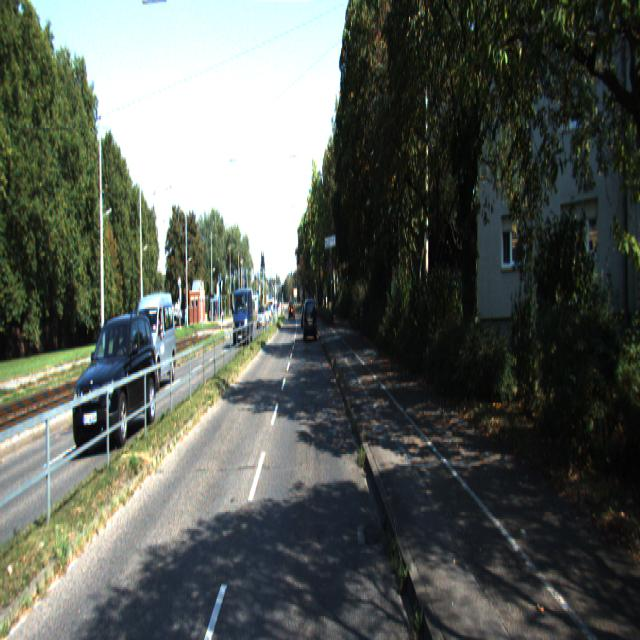Car: (73, 309, 158, 452), (128, 289, 176, 392), (233, 288, 253, 349), (304, 299, 317, 343)
